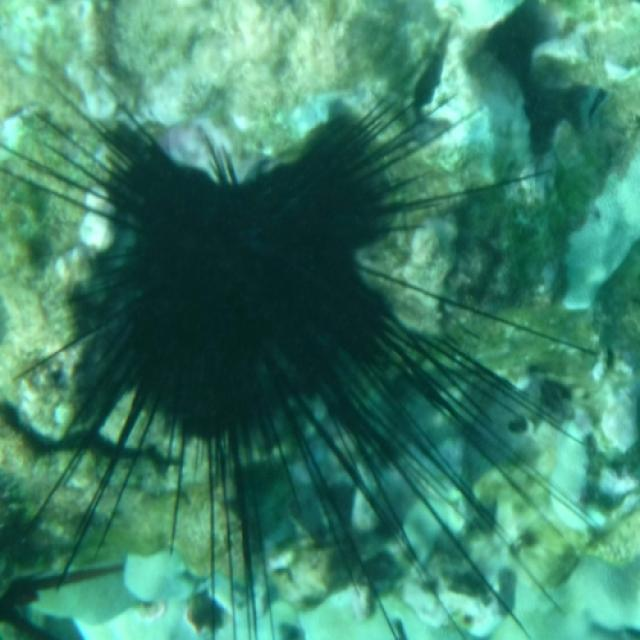Urchin: (1, 60, 602, 637)
